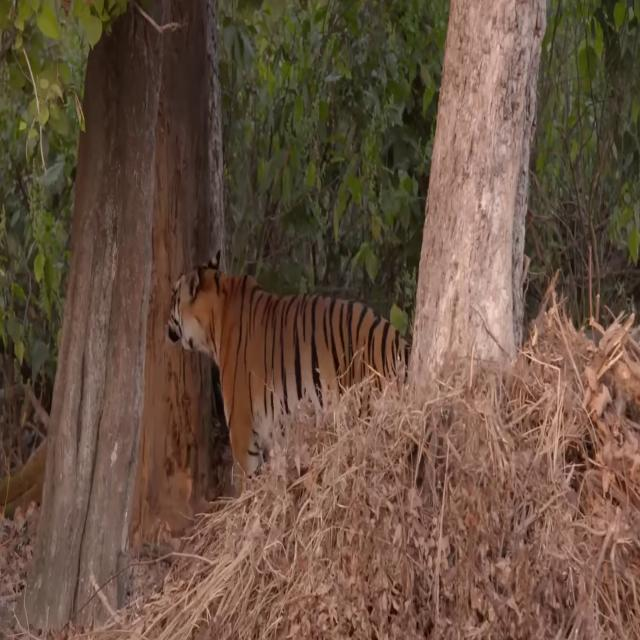tiger: (167, 248, 413, 489)
